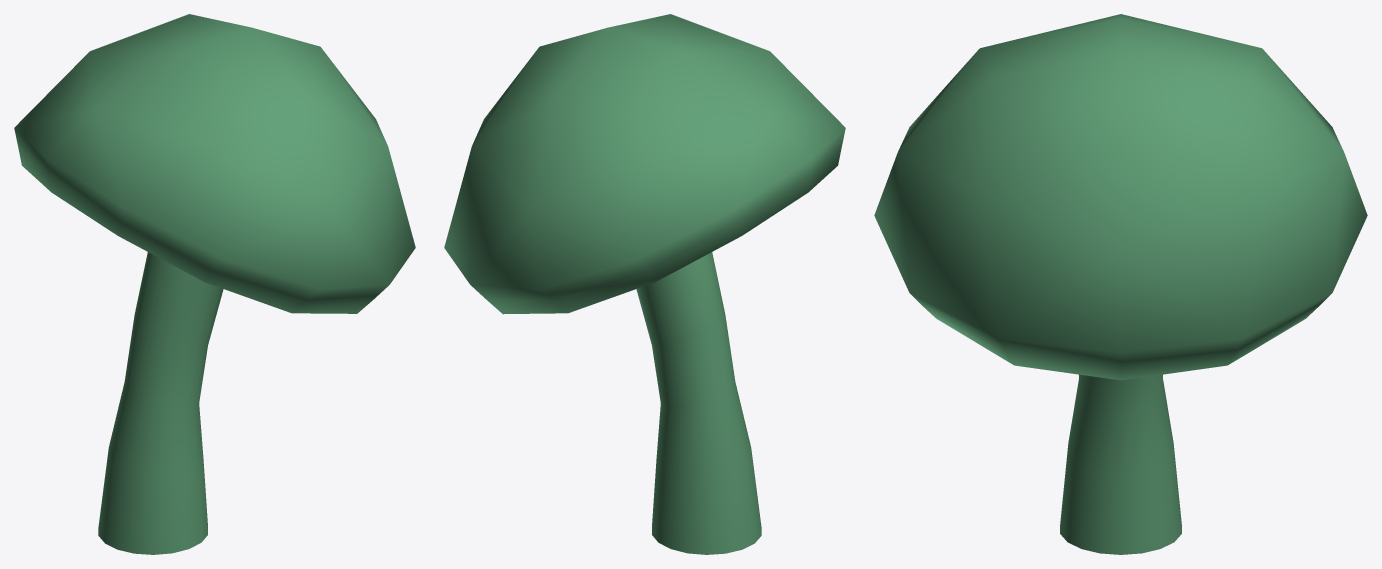
Rendered from Mushroom04.fbx.
The picture shows the model from 3 angles, left to right: view 1: azimuth 30°, elevation 25°; view 2: azimuth 150°, elevation 25°; view 3: azimuth 270°, elevation 25°; orthographic projection. The views are drawn at different scales.
Parts seen in each view (by area): view 1: Mushroom_4_LOD0; view 2: Mushroom_4_LOD0; view 3: Mushroom_4_LOD0.
Boxes of the visible parts, x1,y1,x2,y2 form: Mushroom_4_LOD0: (14,14,415,554); Mushroom_4_LOD0: (444,14,845,554); Mushroom_4_LOD0: (874,14,1367,554).
Size of what is drawn, in the model's own units: 64.39 by 86.9 by 72.91.
